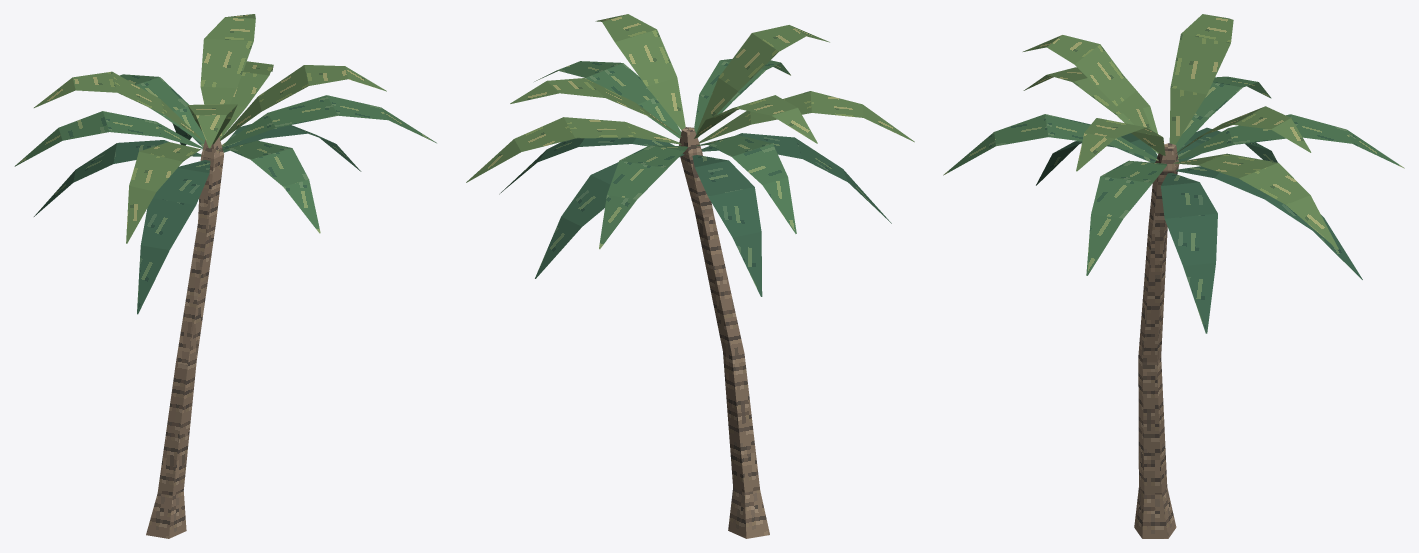
The model's file is coastal-palm-mid.glb.
The picture shows the model from 3 angles, left to right: view 1: azimuth 30°, elevation 25°; view 2: azimuth 150°, elevation 25°; view 3: azimuth 270°, elevation 25°; orthographic projection. The views are drawn at different scales.
Parts seen in each view (by area): view 1: crown, trunk; view 2: crown, trunk; view 3: crown, trunk.
Part boxes in pixels (left/top/right/bottom): crown: left=14, top=14, right=436, bottom=314; trunk: left=146, top=137, right=223, bottom=538; crown: left=466, top=14, right=914, bottom=296; trunk: left=679, top=127, right=769, bottom=538; crown: left=943, top=14, right=1404, bottom=333; trunk: left=1134, top=143, right=1179, bottom=538.
Size of the model in its own units: 7.81 by 9.85 by 8.41.
Materials: 2 (2 with a texture image).
